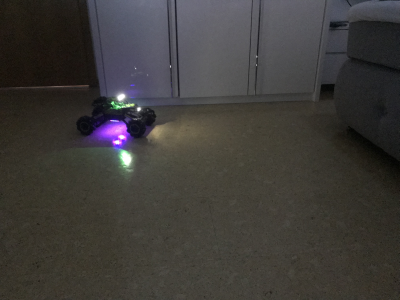remote control car: (73, 93, 159, 140)
